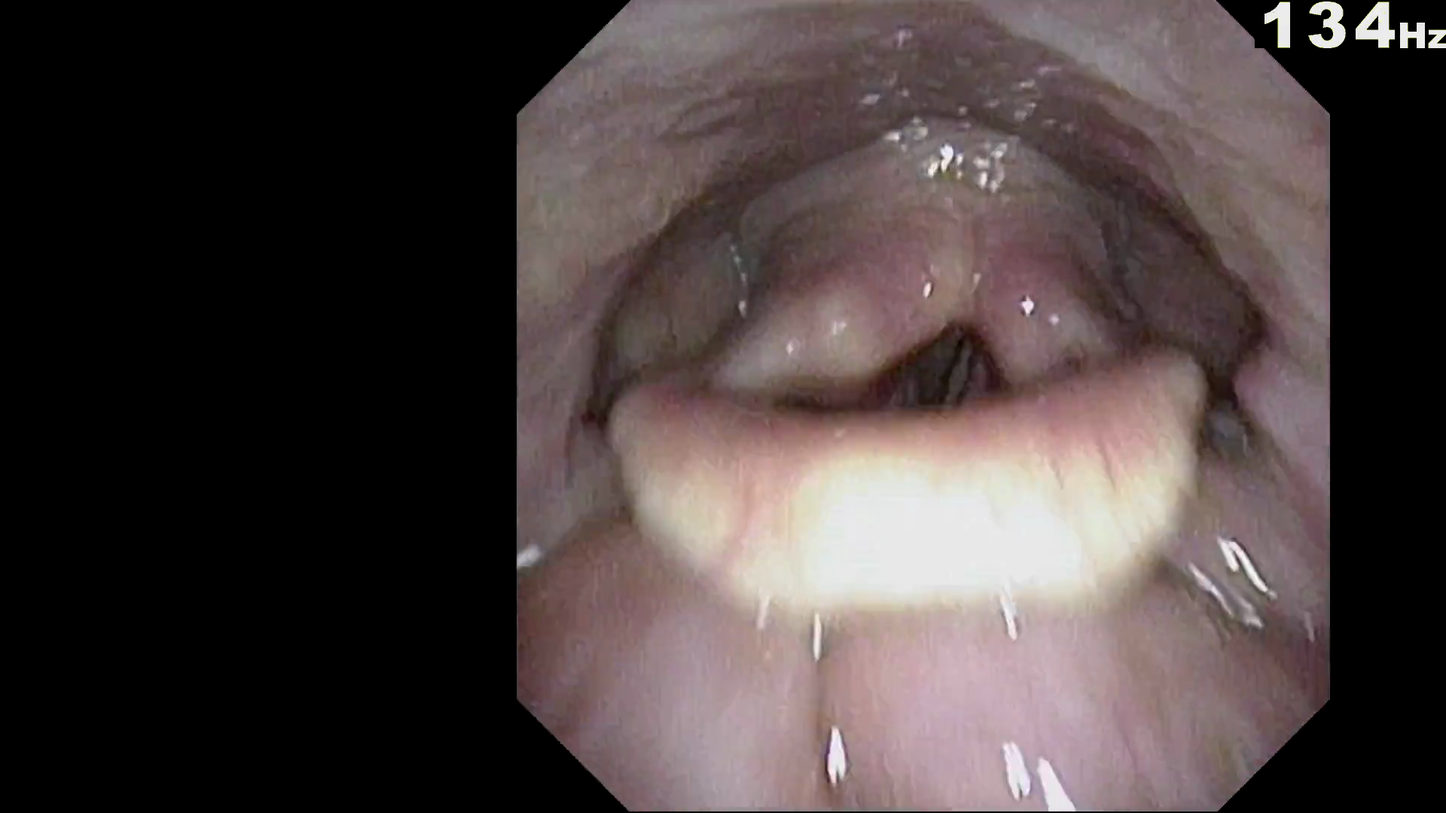epiglottis: (604, 378, 1198, 643)
